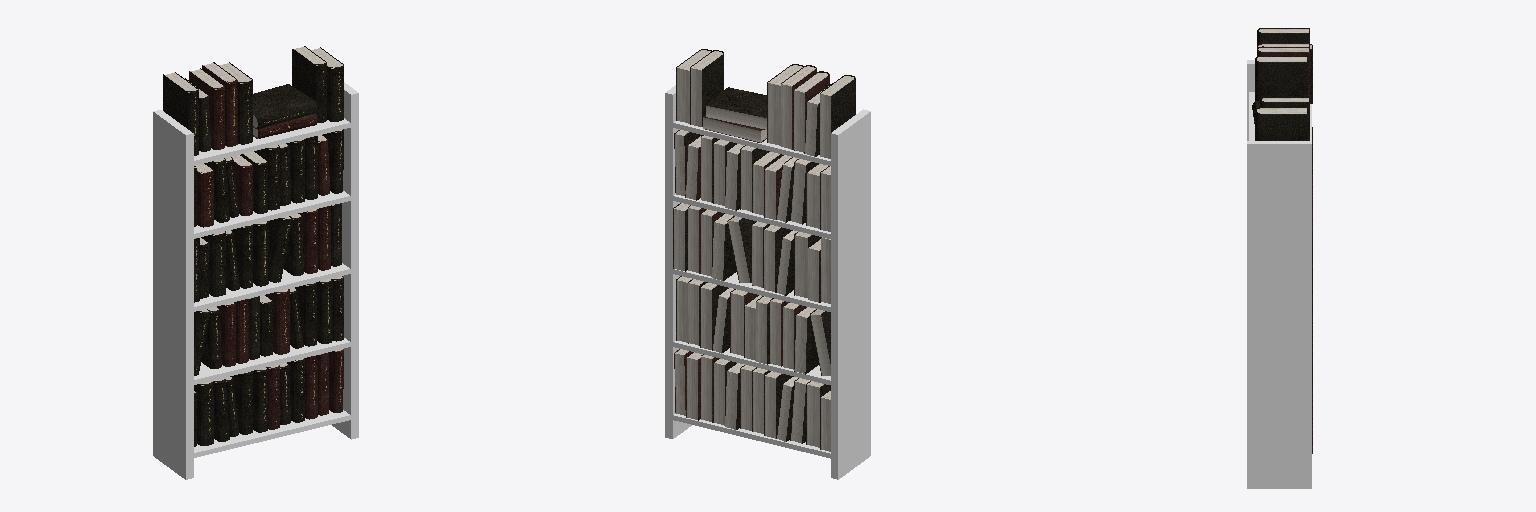
The picture shows the model from 3 angles: view 1: azimuth 30°, elevation 25°; view 2: azimuth 150°, elevation 25°; view 3: azimuth 270°, elevation 25°; orthographic projection.
Visible parts, largest first — view 1: bookcase01, ChamferBox050, ChamferBox047, ChamferBox051, ChamferBox054, ChamferBox053, ChamferBox055, ChamferBox048, ChamferBox024, ChamferBox018, ChamferBox032, ChamferBox012 (+28 smaller); view 2: bookcase01, ChamferBox051, ChamferBox050, ChamferBox047, ChamferBox024, ChamferBox054, ChamferBox022, ChamferBox025, ChamferBox053, ChamferBox055, ChamferBox007, ChamferBox014 (+28 smaller); view 3: bookcase01, ChamferBox055, ChamferBox048, ChamferBox051, ChamferBox047, ChamferBox053.
Part boxes in pixels (bbox=[...]): bookcase01: bbox=[153, 82, 358, 479]; ChamferBox050: bbox=[253, 84, 317, 128]; ChamferBox047: bbox=[292, 46, 326, 122]; ChamferBox051: bbox=[163, 72, 198, 155]; ChamferBox054: bbox=[189, 68, 224, 149]; ChamferBox053: bbox=[202, 62, 237, 146]; ChamferBox055: bbox=[219, 62, 252, 144]; ChamferBox048: bbox=[311, 47, 343, 121]; ChamferBox024: bbox=[268, 216, 292, 282]; ChamferBox018: bbox=[266, 289, 289, 354]; ChamferBox032: bbox=[202, 231, 225, 296]; ChamferBox012: bbox=[194, 381, 213, 445]; bookcase01: bbox=[665, 85, 870, 479]; ChamferBox051: bbox=[820, 75, 855, 158]; ChamferBox050: bbox=[706, 87, 766, 129]; ChamferBox047: bbox=[690, 50, 723, 126]; ChamferBox024: bbox=[727, 216, 755, 282]; ChamferBox054: bbox=[794, 71, 829, 152]; ChamferBox022: bbox=[794, 307, 818, 374]; ChamferBox025: bbox=[712, 214, 736, 280]; ChamferBox053: bbox=[781, 65, 816, 149]; ChamferBox055: bbox=[767, 64, 803, 145]; ChamferBox007: bbox=[764, 371, 791, 438]; ChamferBox014: bbox=[700, 282, 727, 349]; bookcase01: bbox=[1247, 60, 1311, 488]; ChamferBox055: bbox=[1255, 55, 1307, 101]; ChamferBox048: bbox=[1255, 107, 1307, 140]; ChamferBox051: bbox=[1257, 28, 1309, 44]; ChamferBox047: bbox=[1260, 97, 1309, 140]; ChamferBox053: bbox=[1257, 46, 1309, 96].
Bounding box in the file's own units: 1.27 × 2.67 × 0.415.
3 materials, 2 textured.